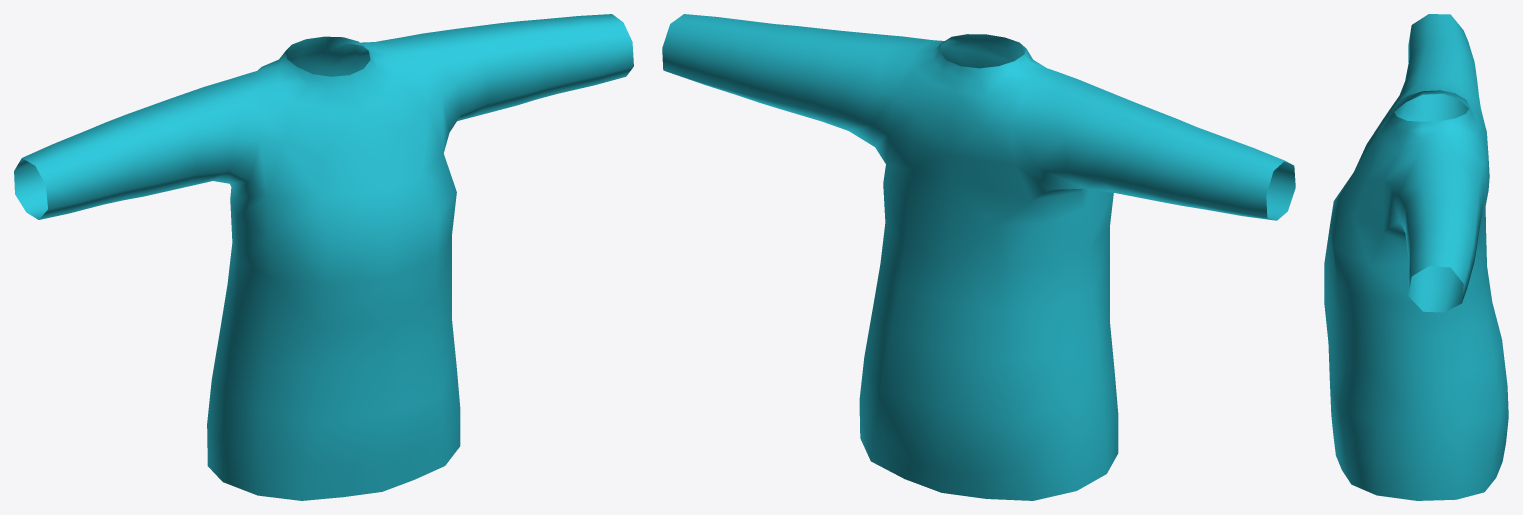
The model's file is Outerwear_Light_Blue_007.glb.
The picture shows the model from 3 angles, left to right: view 1: azimuth 30°, elevation 25°; view 2: azimuth 150°, elevation 25°; view 3: azimuth 270°, elevation 25°; orthographic projection. The views are drawn at different scales.
Visible parts, largest first — view 1: Outerwear_Light_Blue_007; view 2: Outerwear_Light_Blue_007; view 3: Outerwear_Light_Blue_007.
Boxes of the visible parts, x1,y1,x2,y2 form: Outerwear_Light_Blue_007: [14, 14, 633, 500]; Outerwear_Light_Blue_007: [662, 14, 1295, 500]; Outerwear_Light_Blue_007: [1324, 14, 1508, 500].
Bounding box in the file's own units: 1.22 × 0.8008 × 0.3763.
1 material, 1 textured.
